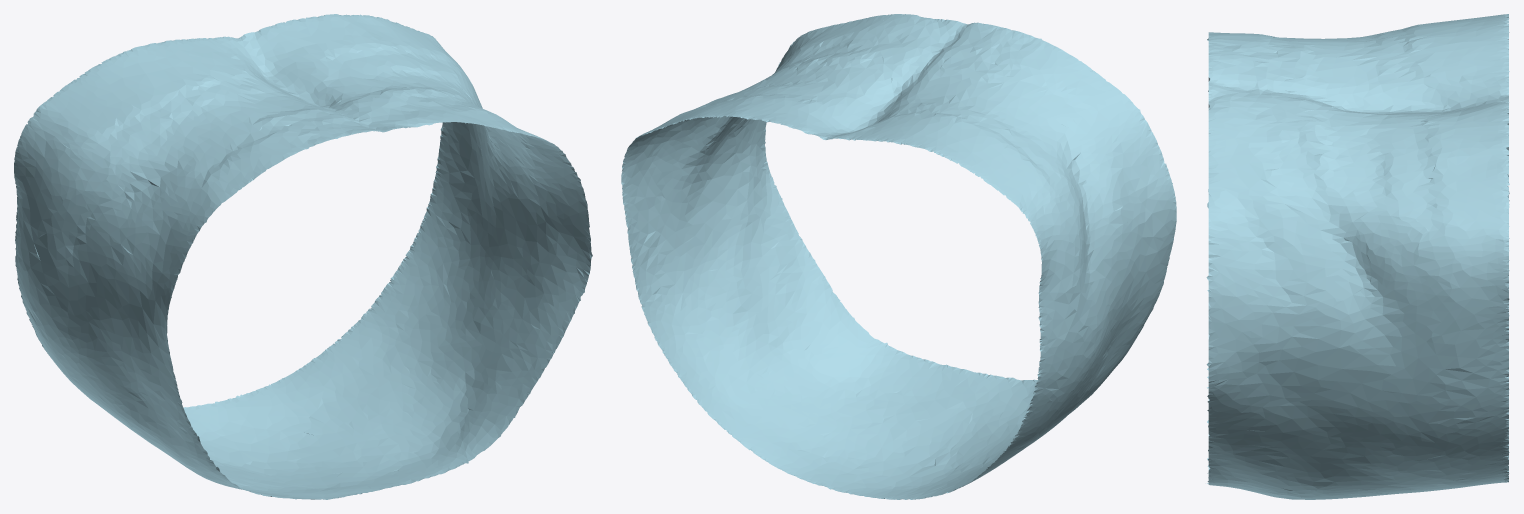
Rendered from skin.obj.
The picture shows the model from 3 angles, left to right: view 1: azimuth 30°, elevation 25°; view 2: azimuth 150°, elevation 25°; view 3: azimuth 270°, elevation 25°; orthographic projection. The views are drawn at different scales.
Parts seen in each view (by area): view 1: grp1; view 2: grp1; view 3: grp1.
Boxes of the visible parts, x1,y1,x2,y2 form: grp1: (14,14,592,499); grp1: (621,14,1176,499); grp1: (1206,14,1509,499).
Size of the model in its own units: 378 by 321 by 221.
